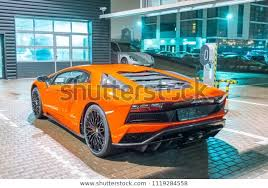Lamborghini: (33, 65, 224, 152)
